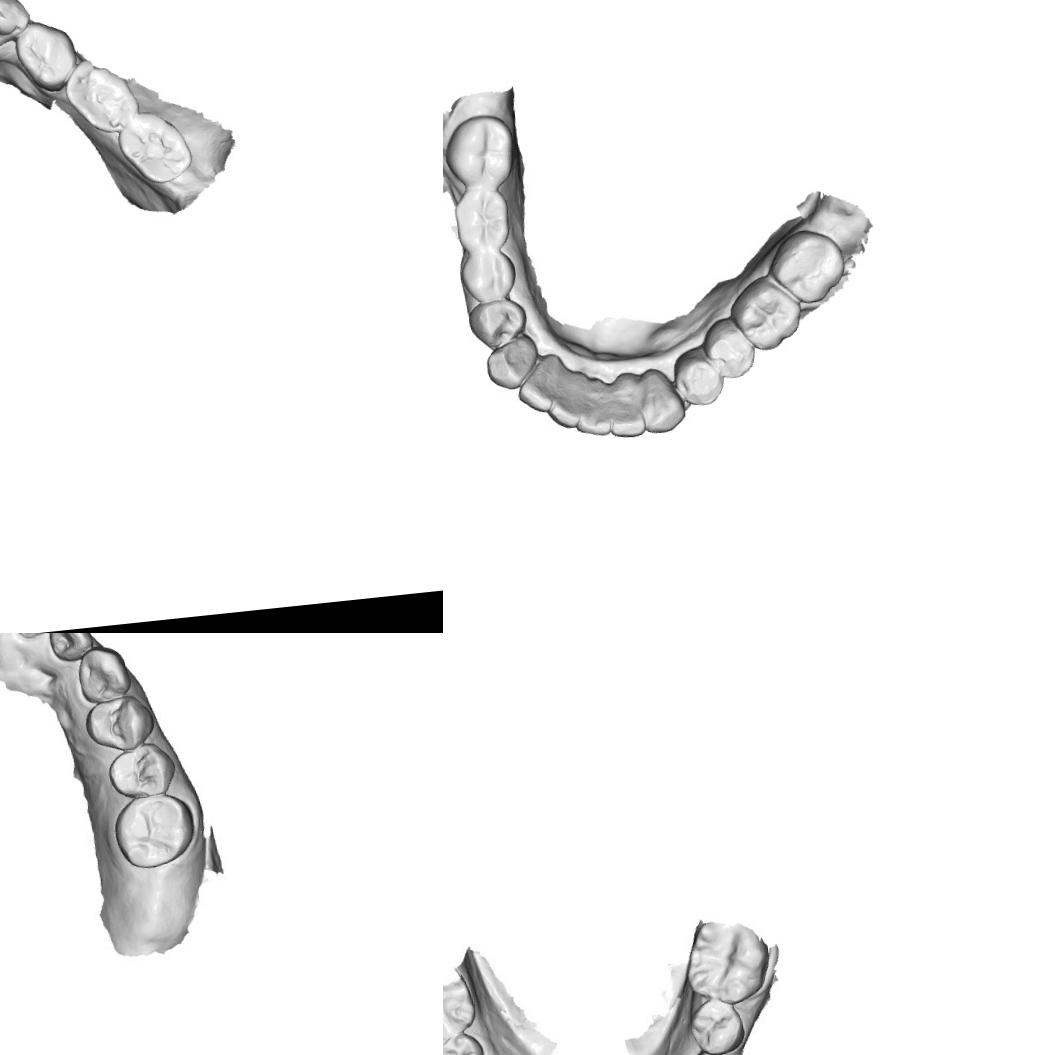canine: (67, 645, 135, 708), (634, 370, 688, 436), (481, 334, 542, 392), (0, 0, 32, 55)
incisor: (513, 361, 561, 417), (542, 386, 584, 435), (605, 398, 649, 440), (573, 398, 614, 442), (44, 633, 94, 664)
molar: (678, 914, 774, 1009), (113, 104, 197, 188), (111, 792, 199, 870), (61, 54, 143, 137), (766, 225, 848, 308), (443, 110, 518, 192), (728, 275, 804, 354), (448, 186, 514, 254), (443, 974, 480, 1050)
premolar: (10, 17, 80, 95), (104, 739, 180, 801), (83, 690, 155, 754), (699, 314, 759, 384), (683, 995, 748, 1055), (668, 346, 727, 410), (456, 246, 518, 304), (466, 298, 530, 354), (443, 1030, 488, 1055)
